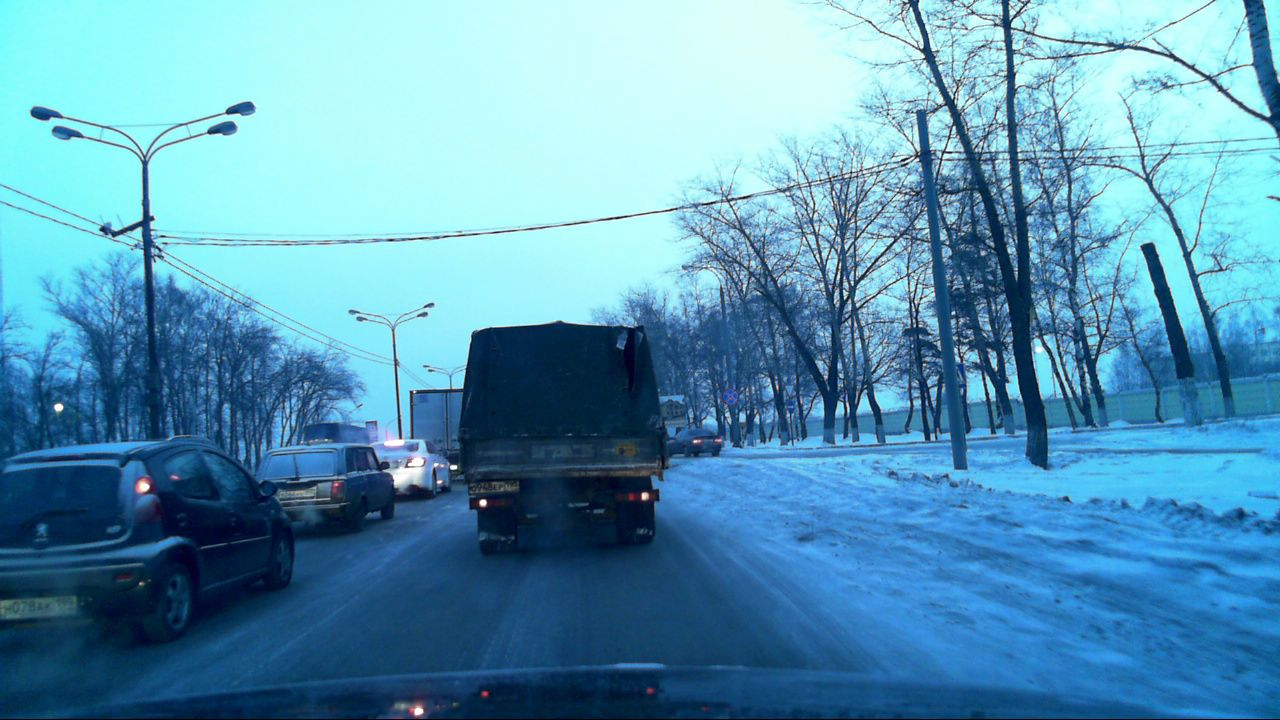No Parking: (722, 388, 738, 406)
